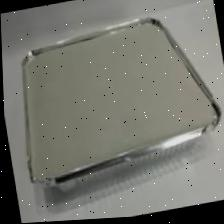metal: (0, 0, 224, 207)
